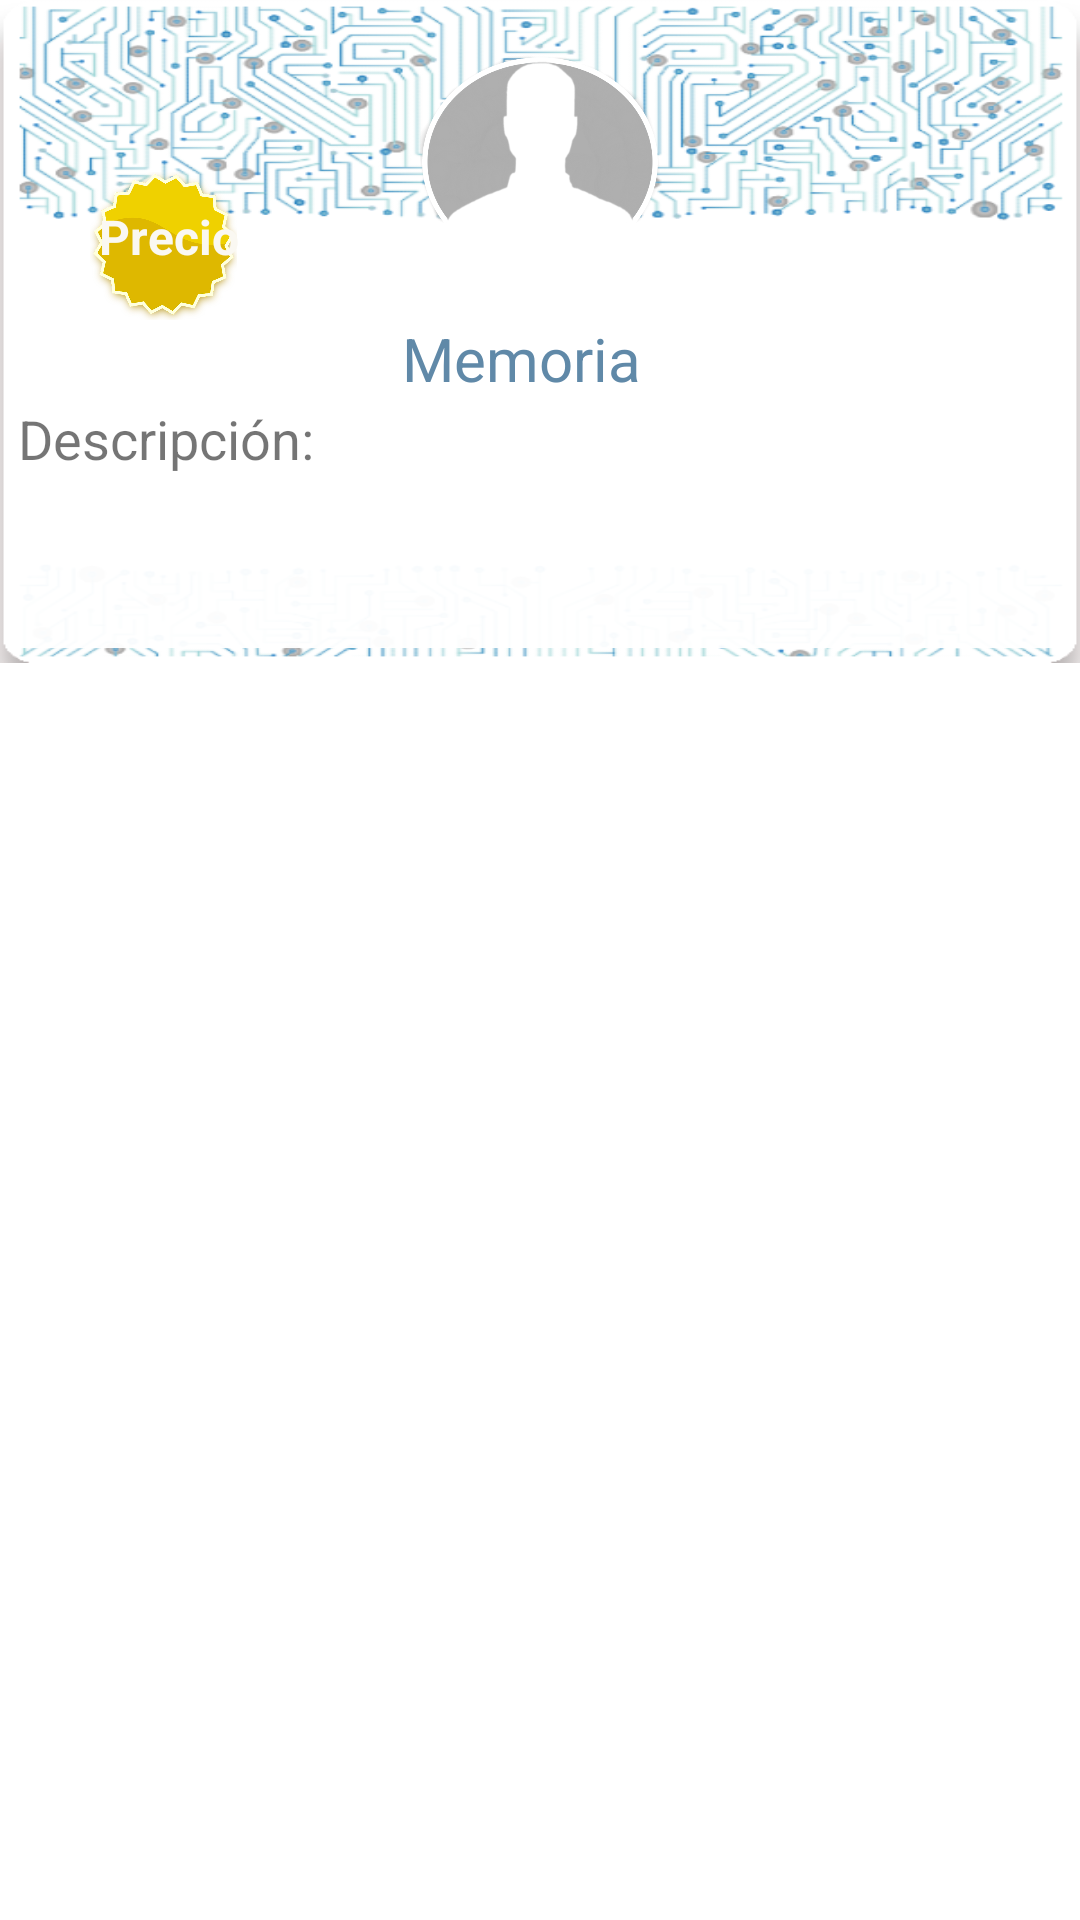

Icons on this 1080 x 1920 Android screen, each with its box as BBox(x1, y1, x2, y2):
avatalogin: BBox(420, 6, 660, 220)
